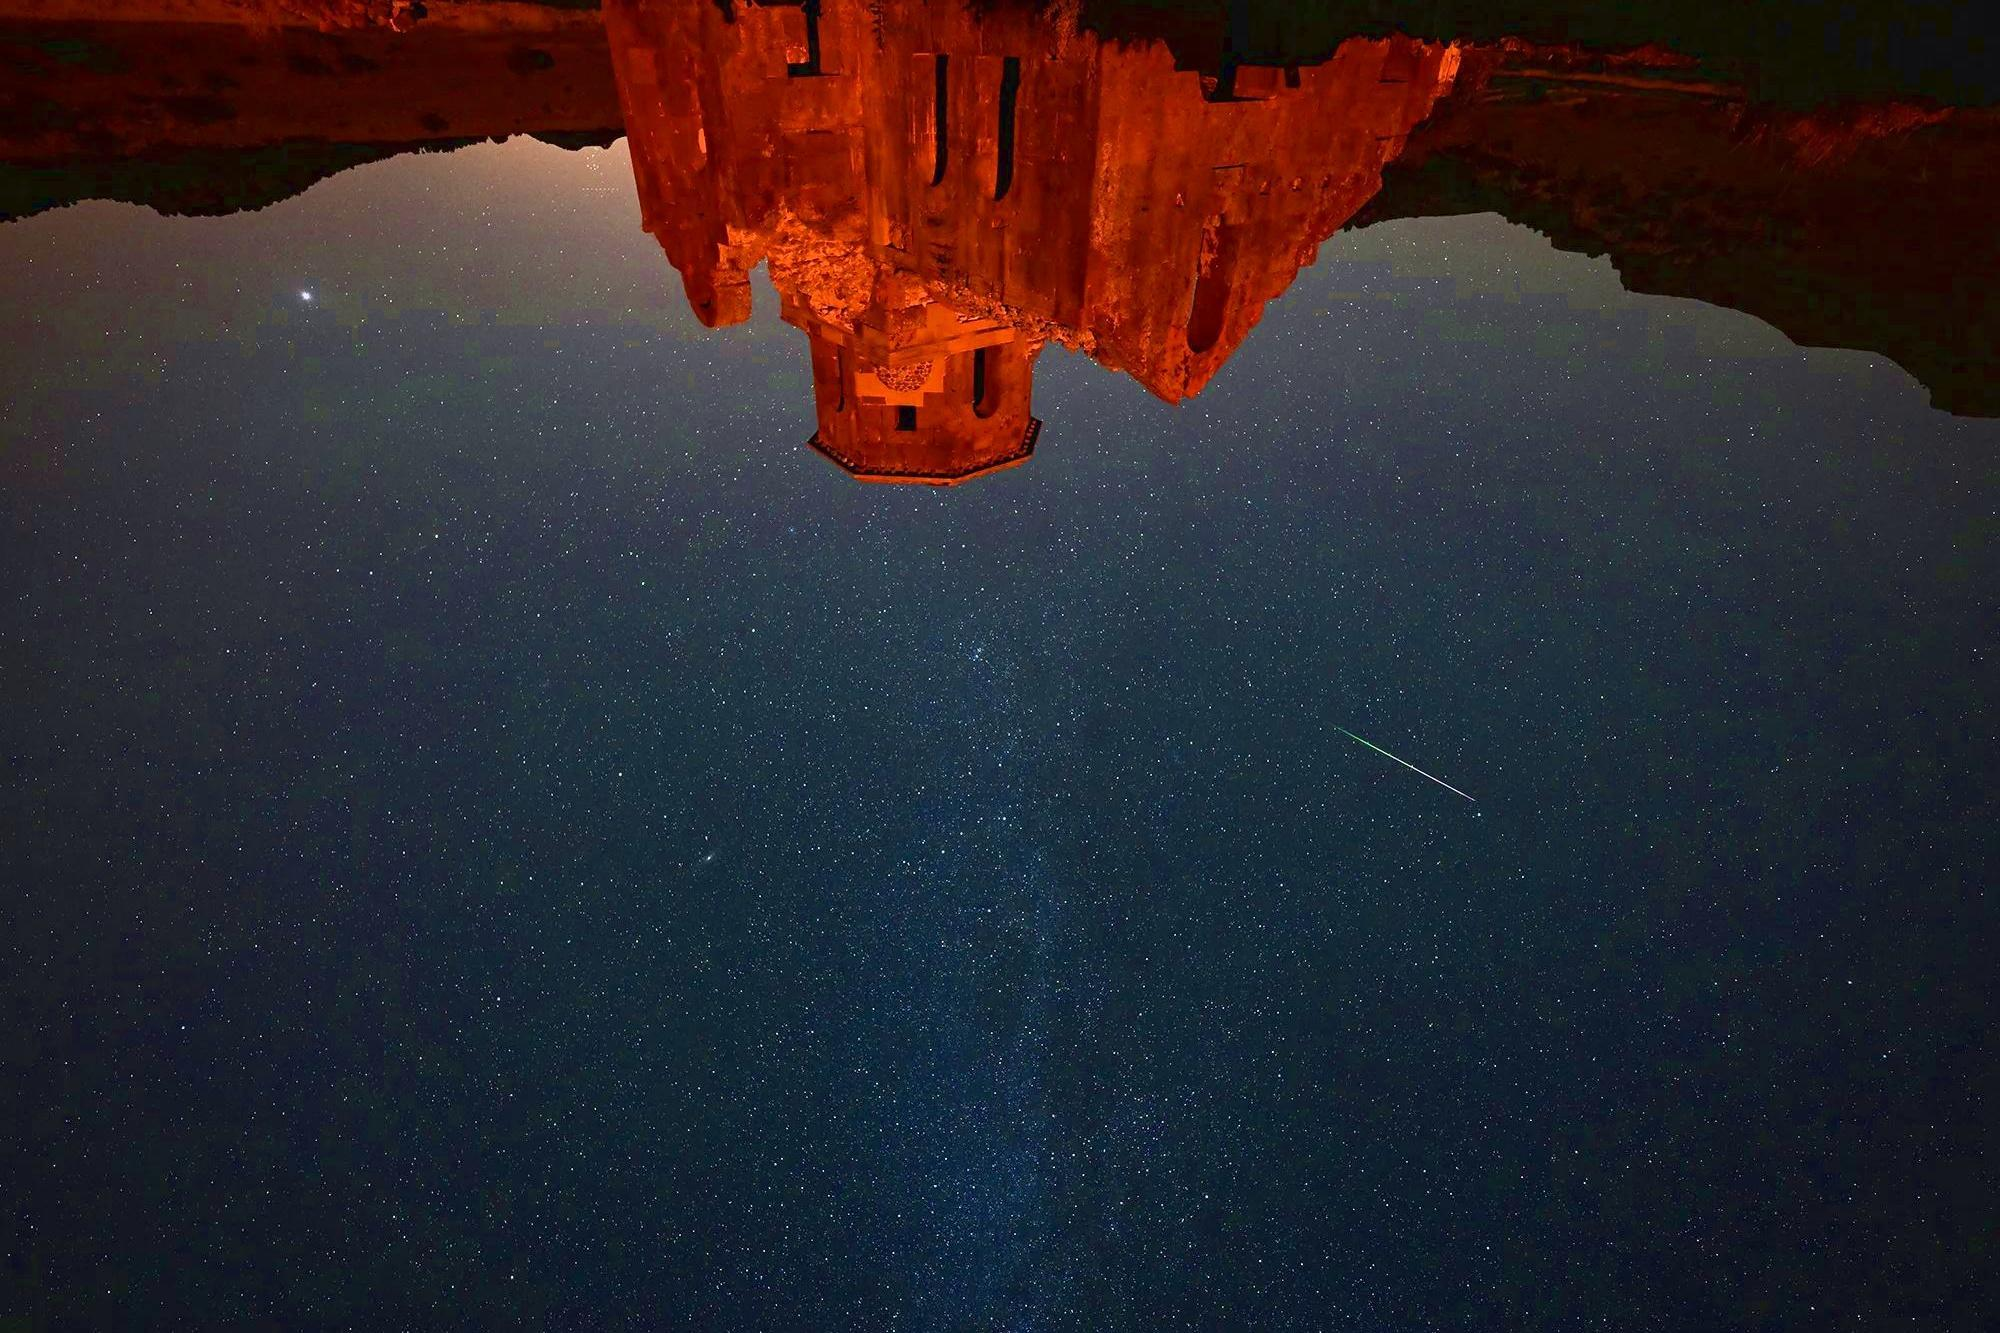meteorite: (1303, 707, 1503, 823)
